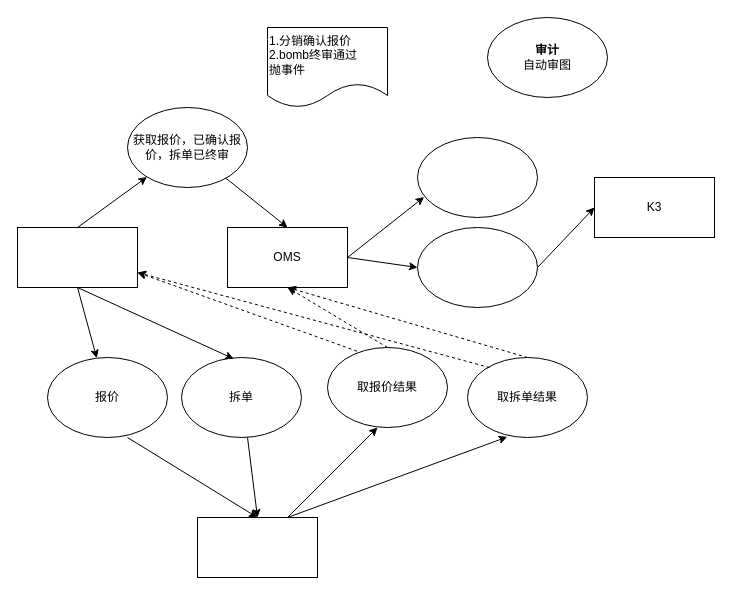
The diagram is 732 pixels wide and 595 high, and some of its shapes have lost their labels. The centre of each missing label's shape, as x and y in pixels:
BOMB: the point at 257,547
SALES: the point at 77,257
保存BOMB快照（含报价清单和拆单清单）: the point at 477,177
推送K3: the point at 477,267
